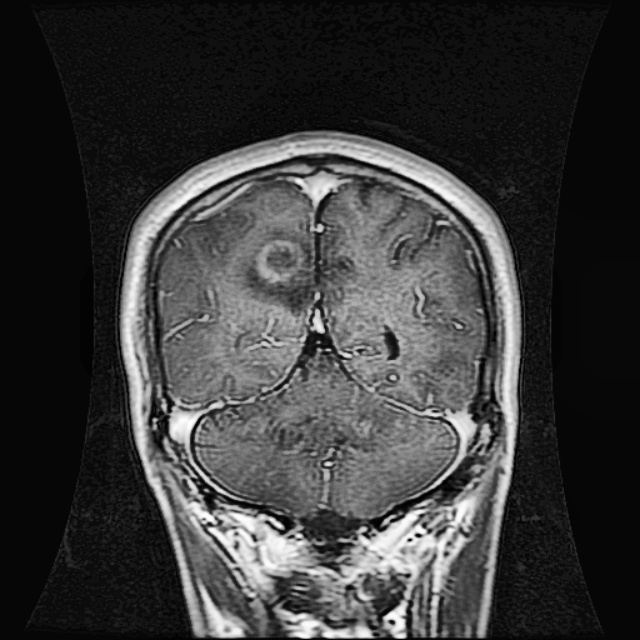Meningioma: (247, 229, 317, 309)
